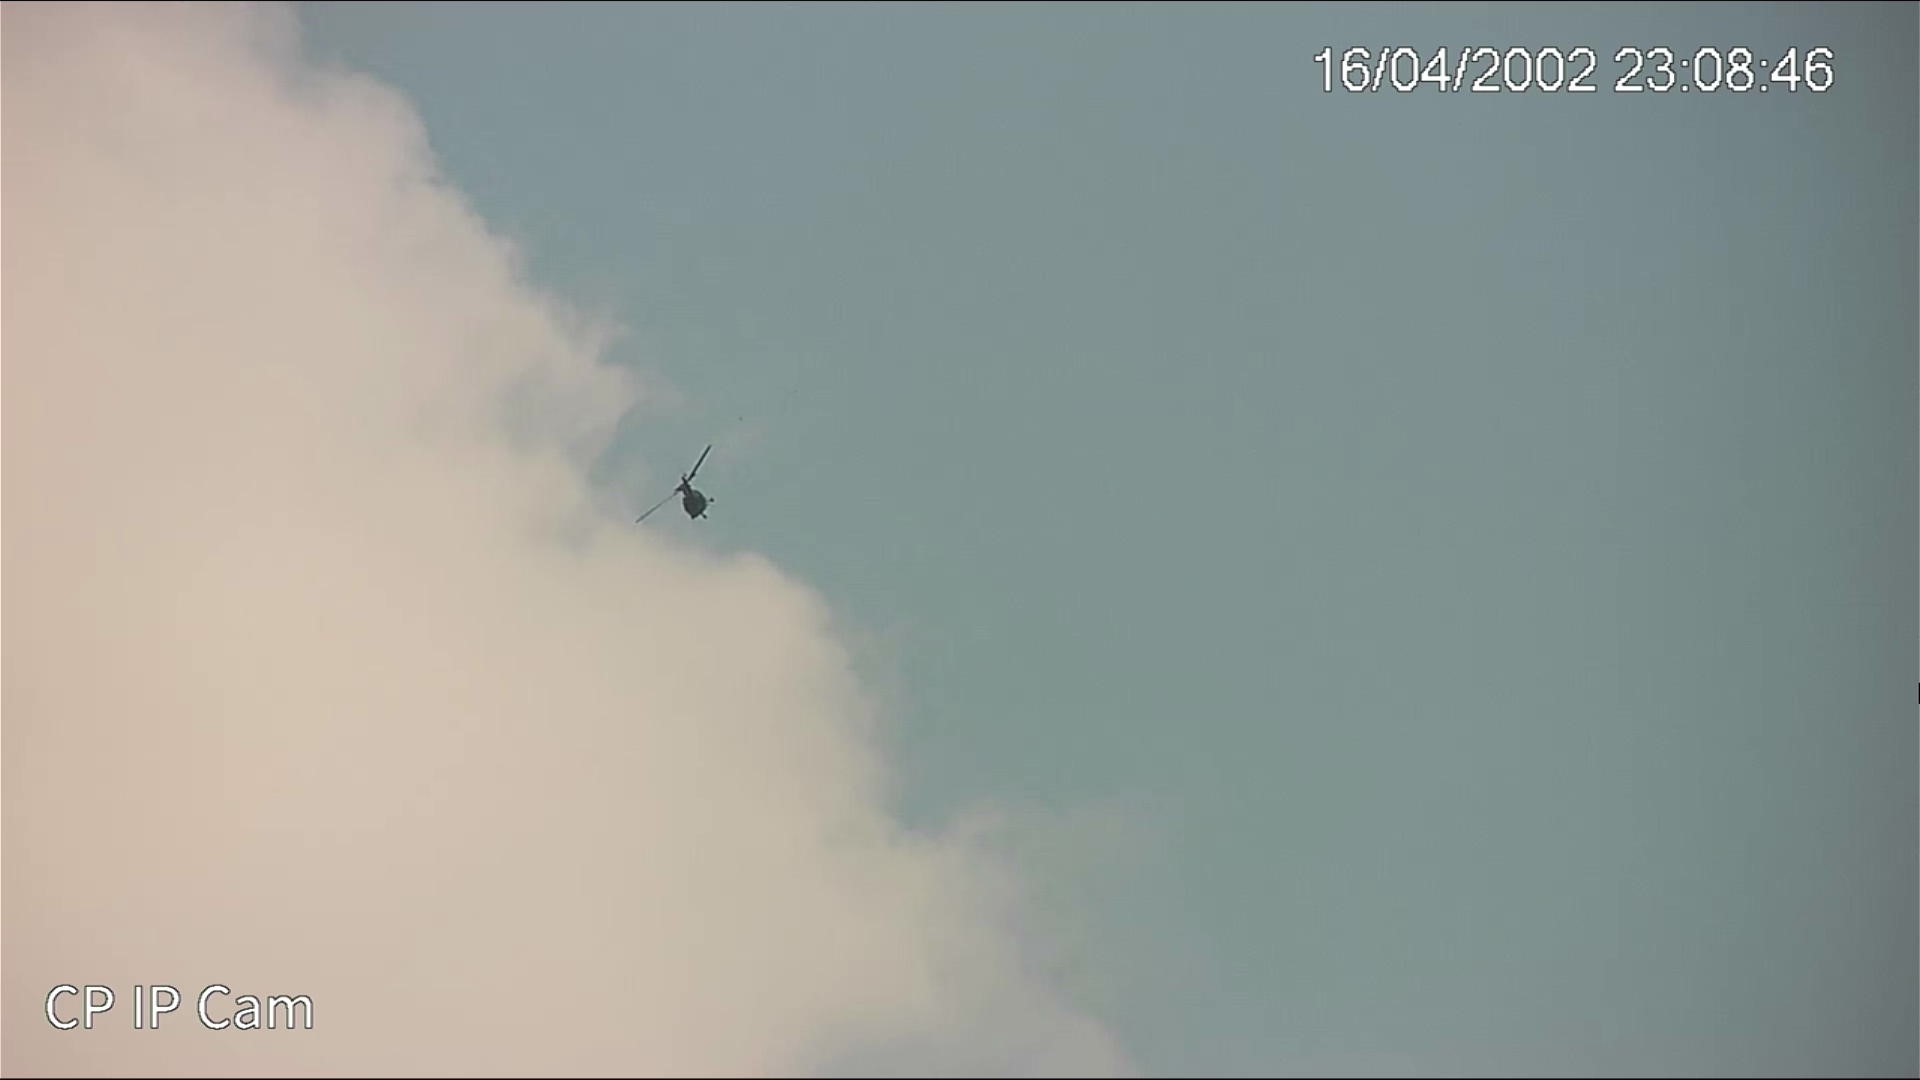SU_30: (657, 464, 723, 525)
